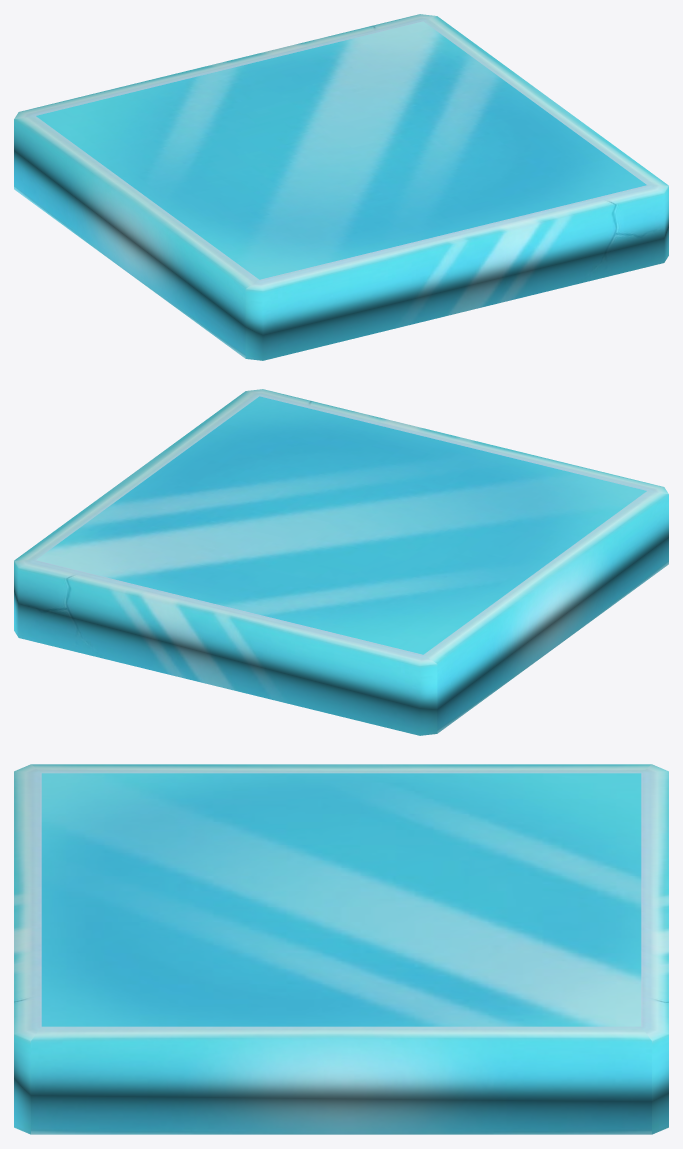
Rendered from iceTile07.glb.
3 views of the same model, one above another, from view 1: azimuth 30°, elevation 25°; view 2: azimuth 150°, elevation 25°; view 3: azimuth 270°, elevation 25° (orthographic). The views are drawn at different scales.
Visible parts, largest first — view 1: IceTile07; view 2: IceTile07; view 3: IceTile07.
Boxes of the visible parts, box(x1,y1,x2,y2) form: IceTile07: box(14, 14, 668, 360); IceTile07: box(14, 389, 668, 735); IceTile07: box(14, 764, 668, 1134).
Size of the model in its own units: 3 by 0.5 by 3.
Materials: 1 (1 with a texture image).
